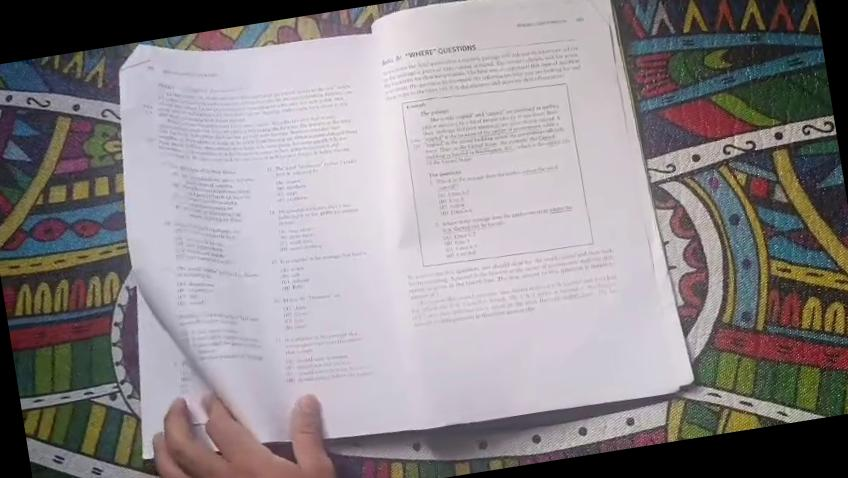Kertas: (376, 0, 686, 431), (133, 35, 423, 401)
